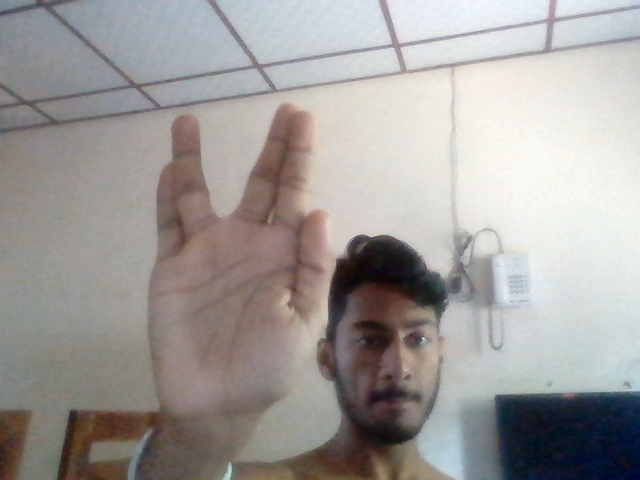LiveLong: (145, 102, 334, 422)
